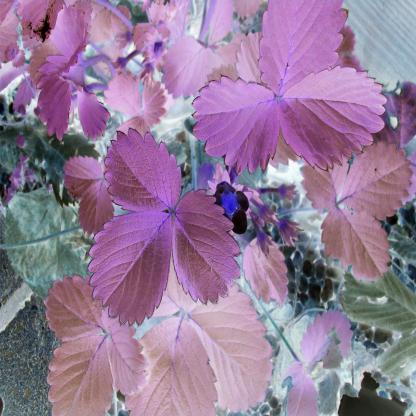Strawberry leaf: (276, 64, 388, 172), (84, 204, 176, 332), (186, 281, 274, 412), (188, 78, 282, 176), (127, 316, 218, 416), (172, 190, 244, 314), (258, 0, 348, 91), (103, 127, 179, 213), (43, 332, 113, 416), (318, 204, 390, 284), (342, 138, 413, 219), (96, 315, 156, 394), (43, 270, 105, 340), (296, 156, 350, 214)
